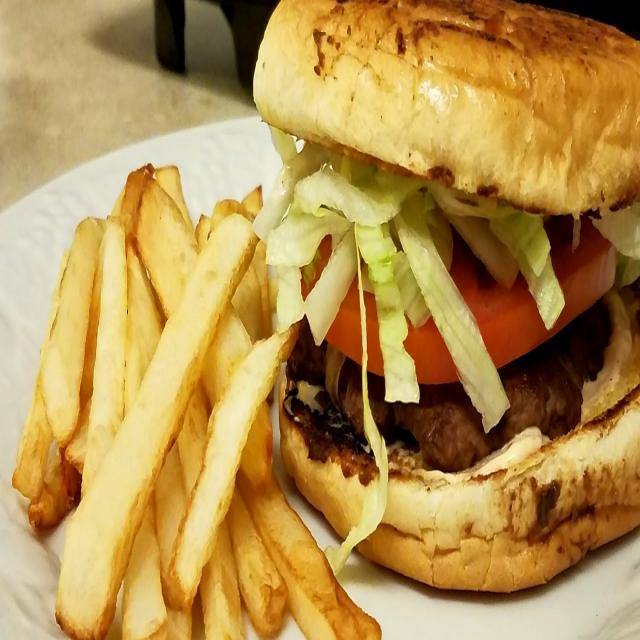Burger: (243, 2, 640, 602)
French Fries: (11, 156, 376, 639)
